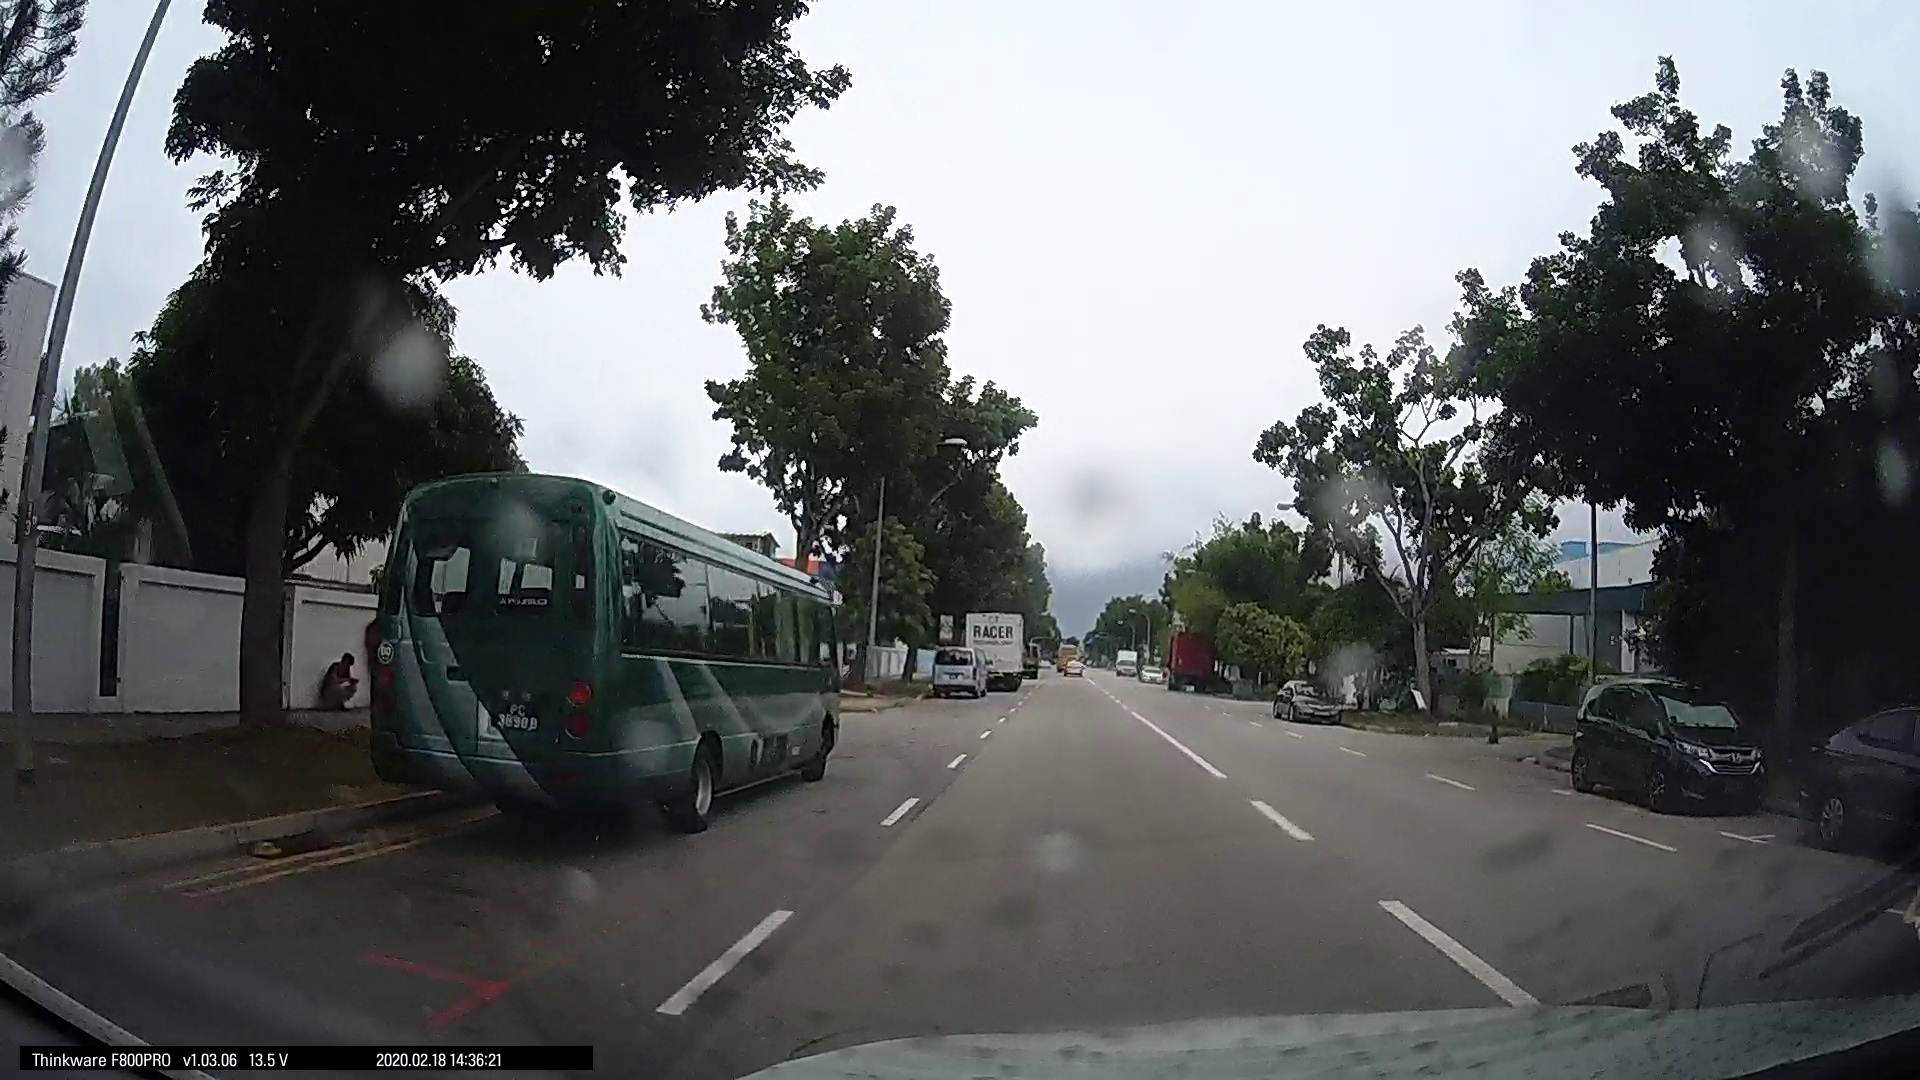Heavy Vehicle: (356, 477, 843, 848), (948, 607, 1030, 694)
Light Vehicle: (1560, 673, 1768, 818), (926, 641, 993, 698), (1269, 676, 1344, 727)
